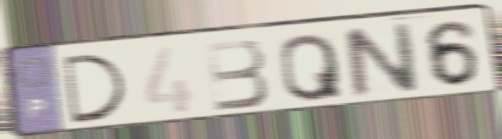4: (141, 44, 199, 116)
6: (422, 18, 482, 89)
B: (203, 36, 273, 113)
D: (58, 52, 131, 127)
N: (338, 19, 422, 102)
Q: (278, 30, 345, 104)
